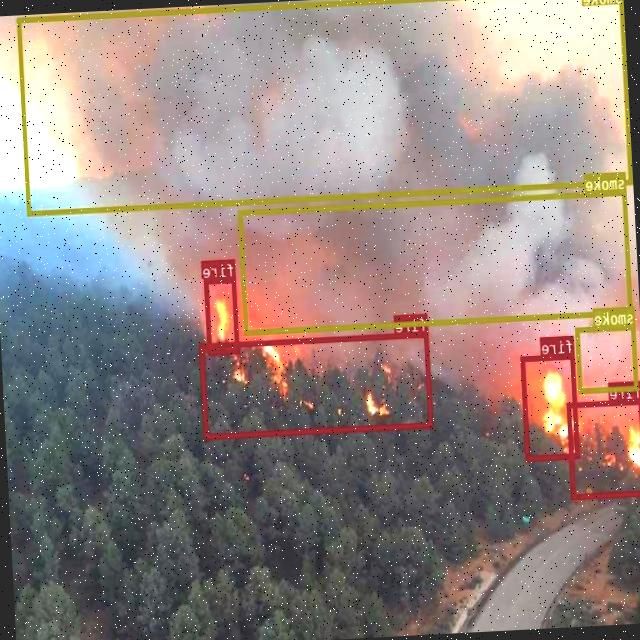fire: (200, 331, 434, 438), (567, 398, 640, 499), (522, 352, 580, 460), (204, 276, 240, 355)
smoke: (17, 0, 633, 216), (238, 190, 634, 334), (576, 324, 640, 392)
